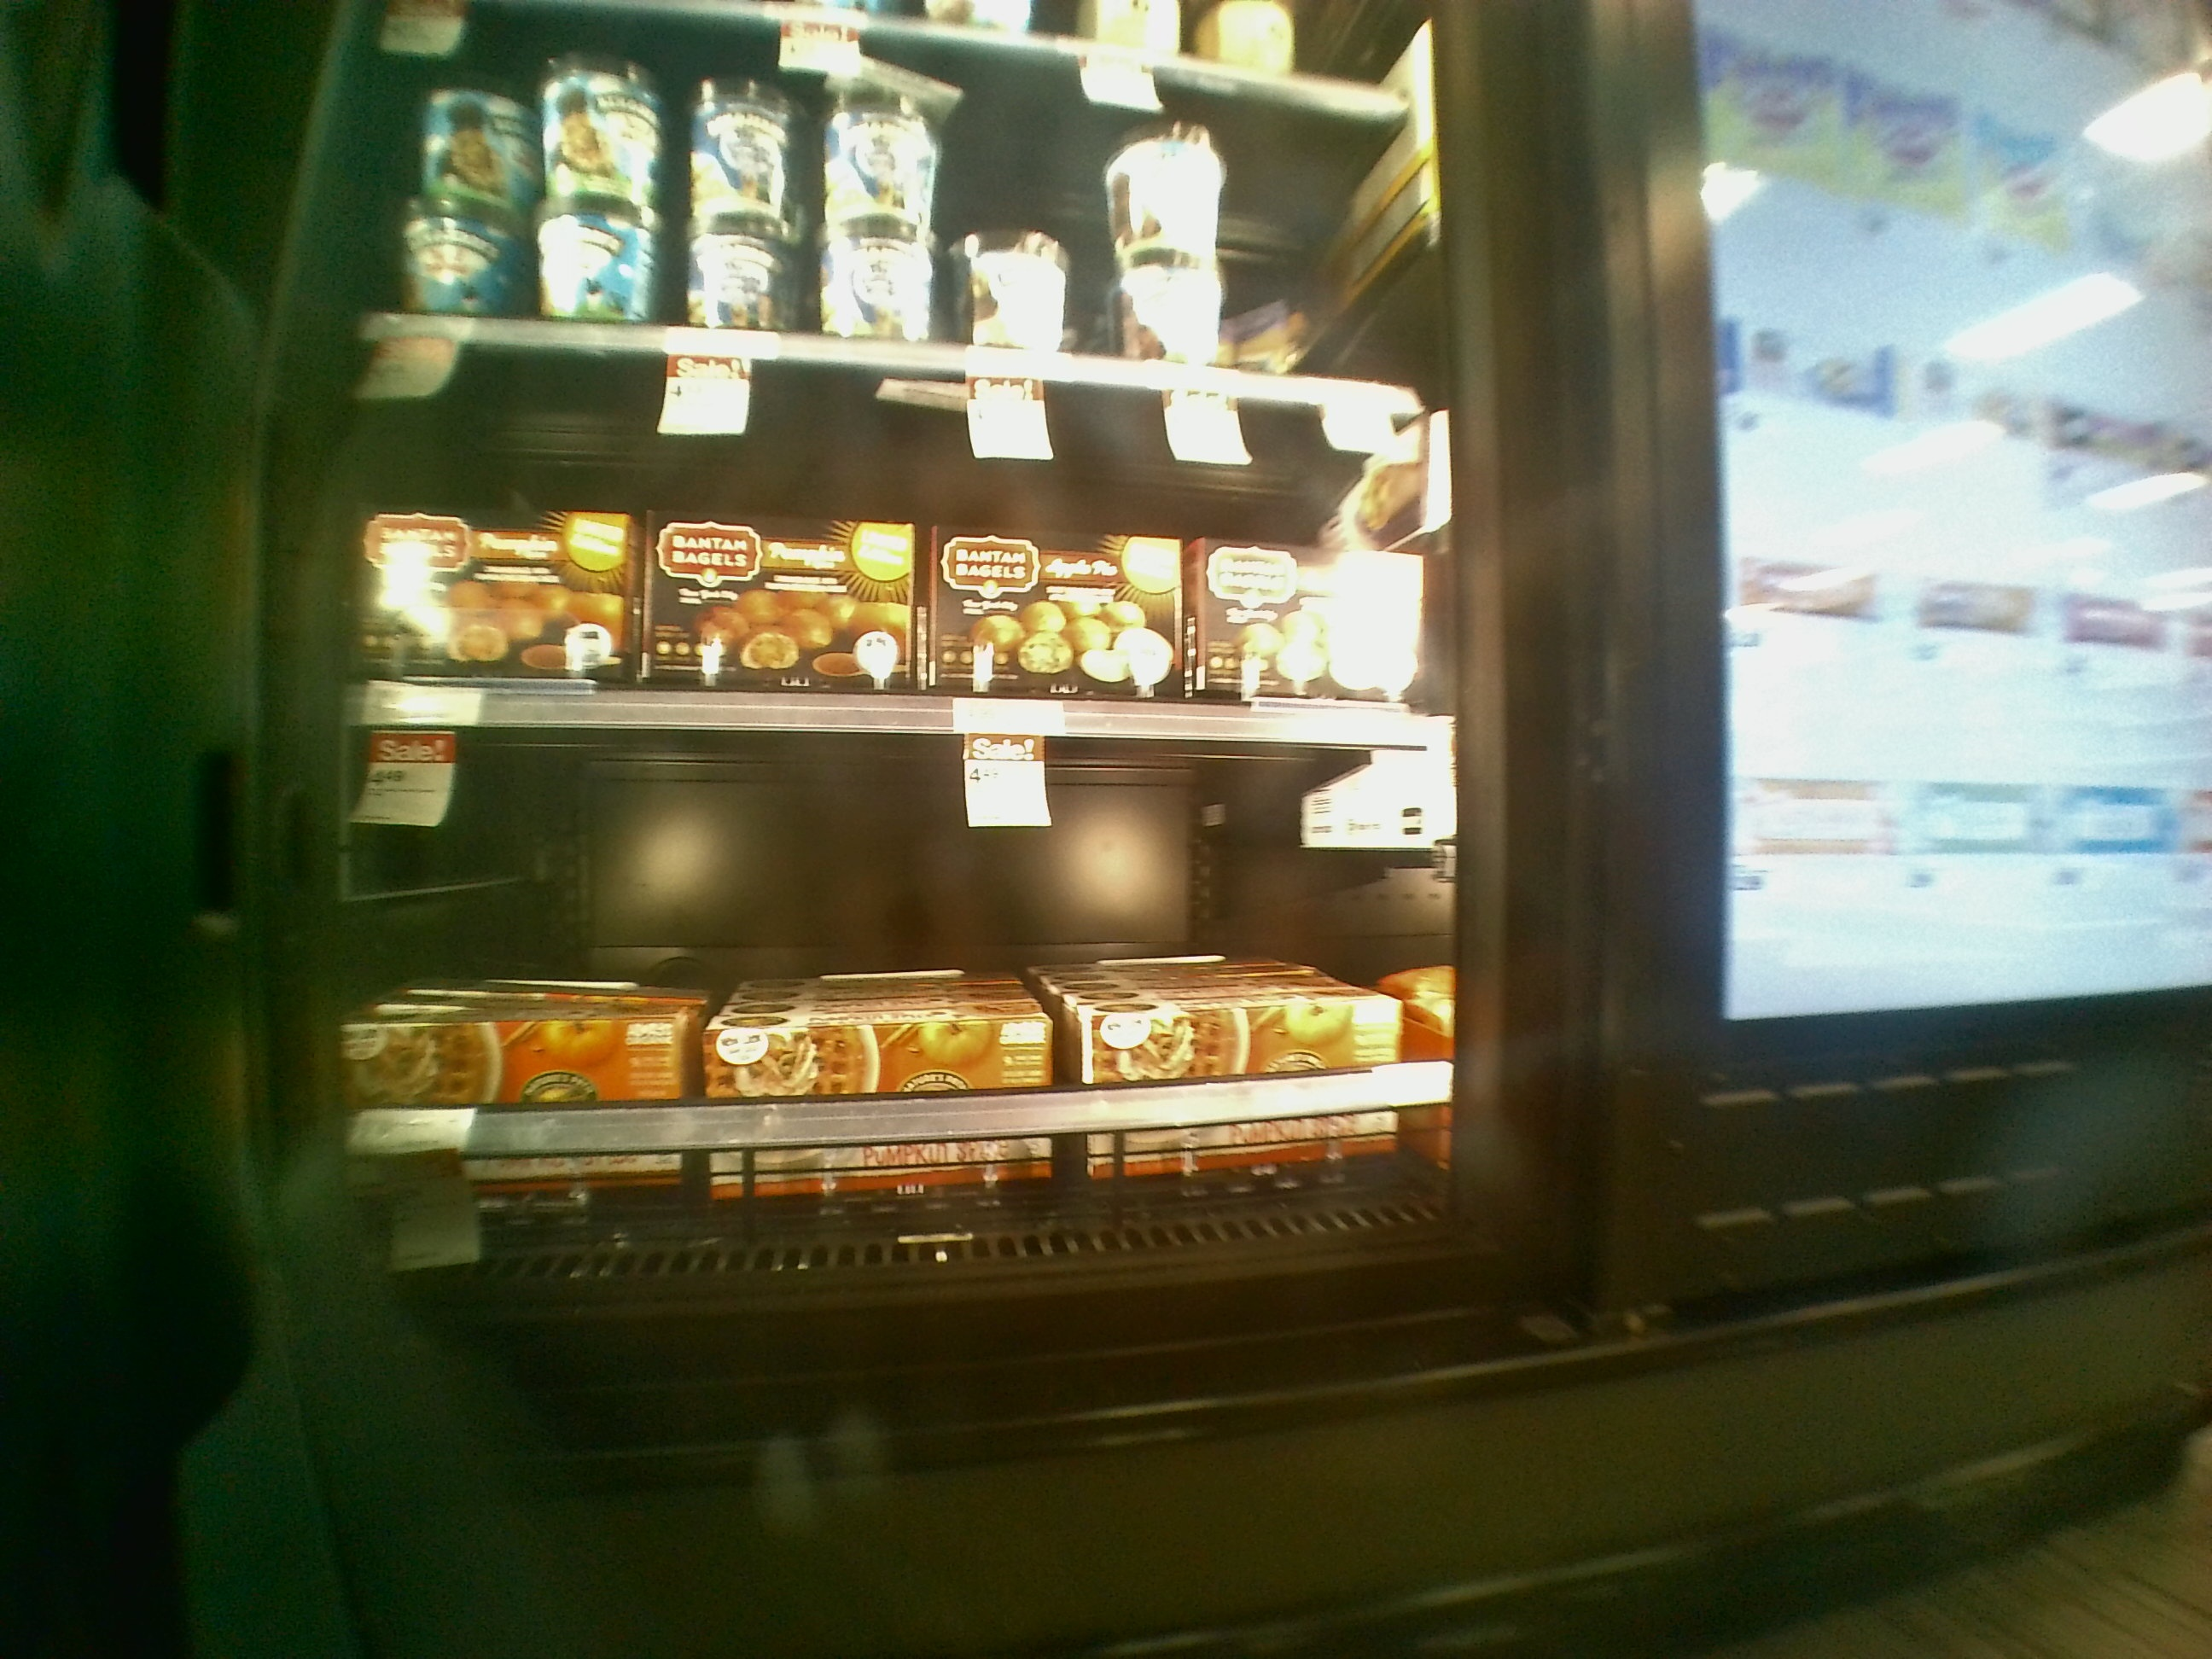shelf: (319, 688, 1479, 1303), (324, 321, 1474, 763)
